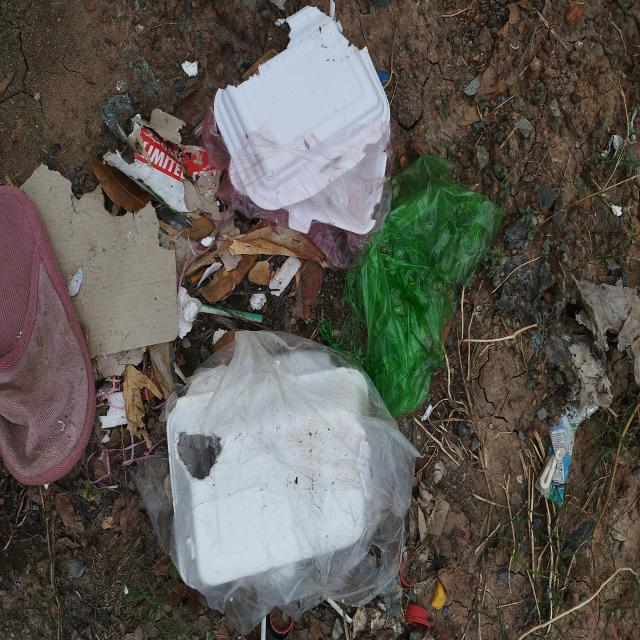bag: (316, 155, 504, 418)
foam box: (216, 6, 391, 236)
milk box: (532, 407, 580, 507)
trash bag: (130, 330, 420, 636)
